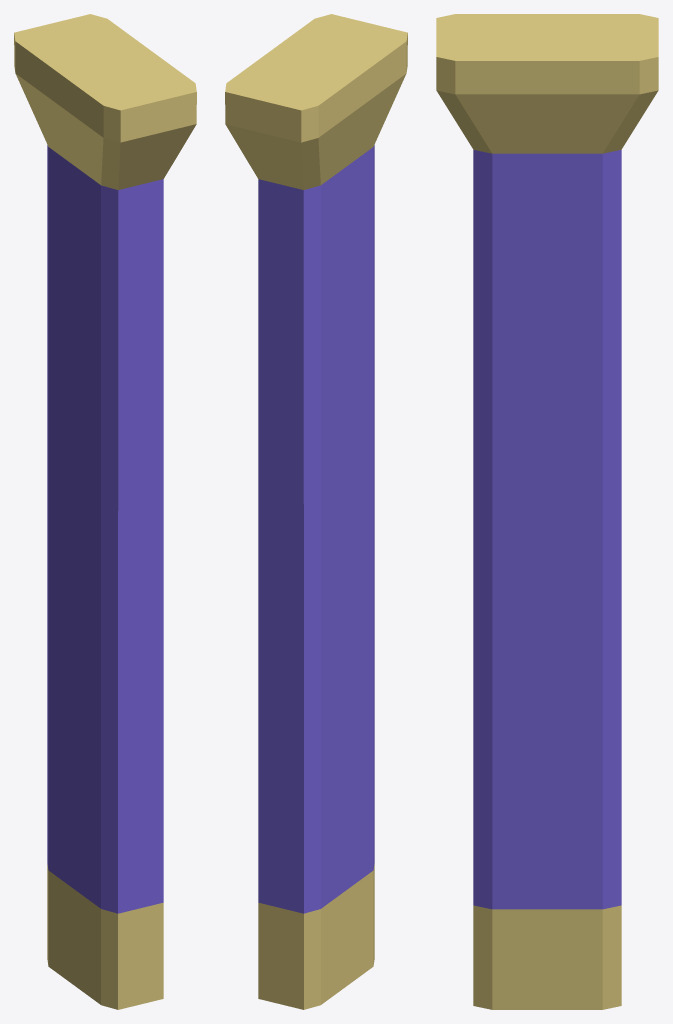
File: Pillar_Small.fbx
3 renders of one model, left to right at view 1: azimuth 30°, elevation 25°; view 2: azimuth 150°, elevation 25°; view 3: azimuth 270°, elevation 25°, orthographic. The views are drawn at different scales.
Parts seen in each view (by area): view 1: Small_Pillar_Base; view 2: Small_Pillar_Base; view 3: Small_Pillar_Base.
Boxes of the visible parts, x1=… form: Small_Pillar_Base: x1=14, y1=14, x2=196, y2=1009; Small_Pillar_Base: x1=225, y1=14, x2=407, y2=1009; Small_Pillar_Base: x1=436, y1=14, x2=658, y2=1009.
Size of the model in its own units: 300 by 2851 by 600.
